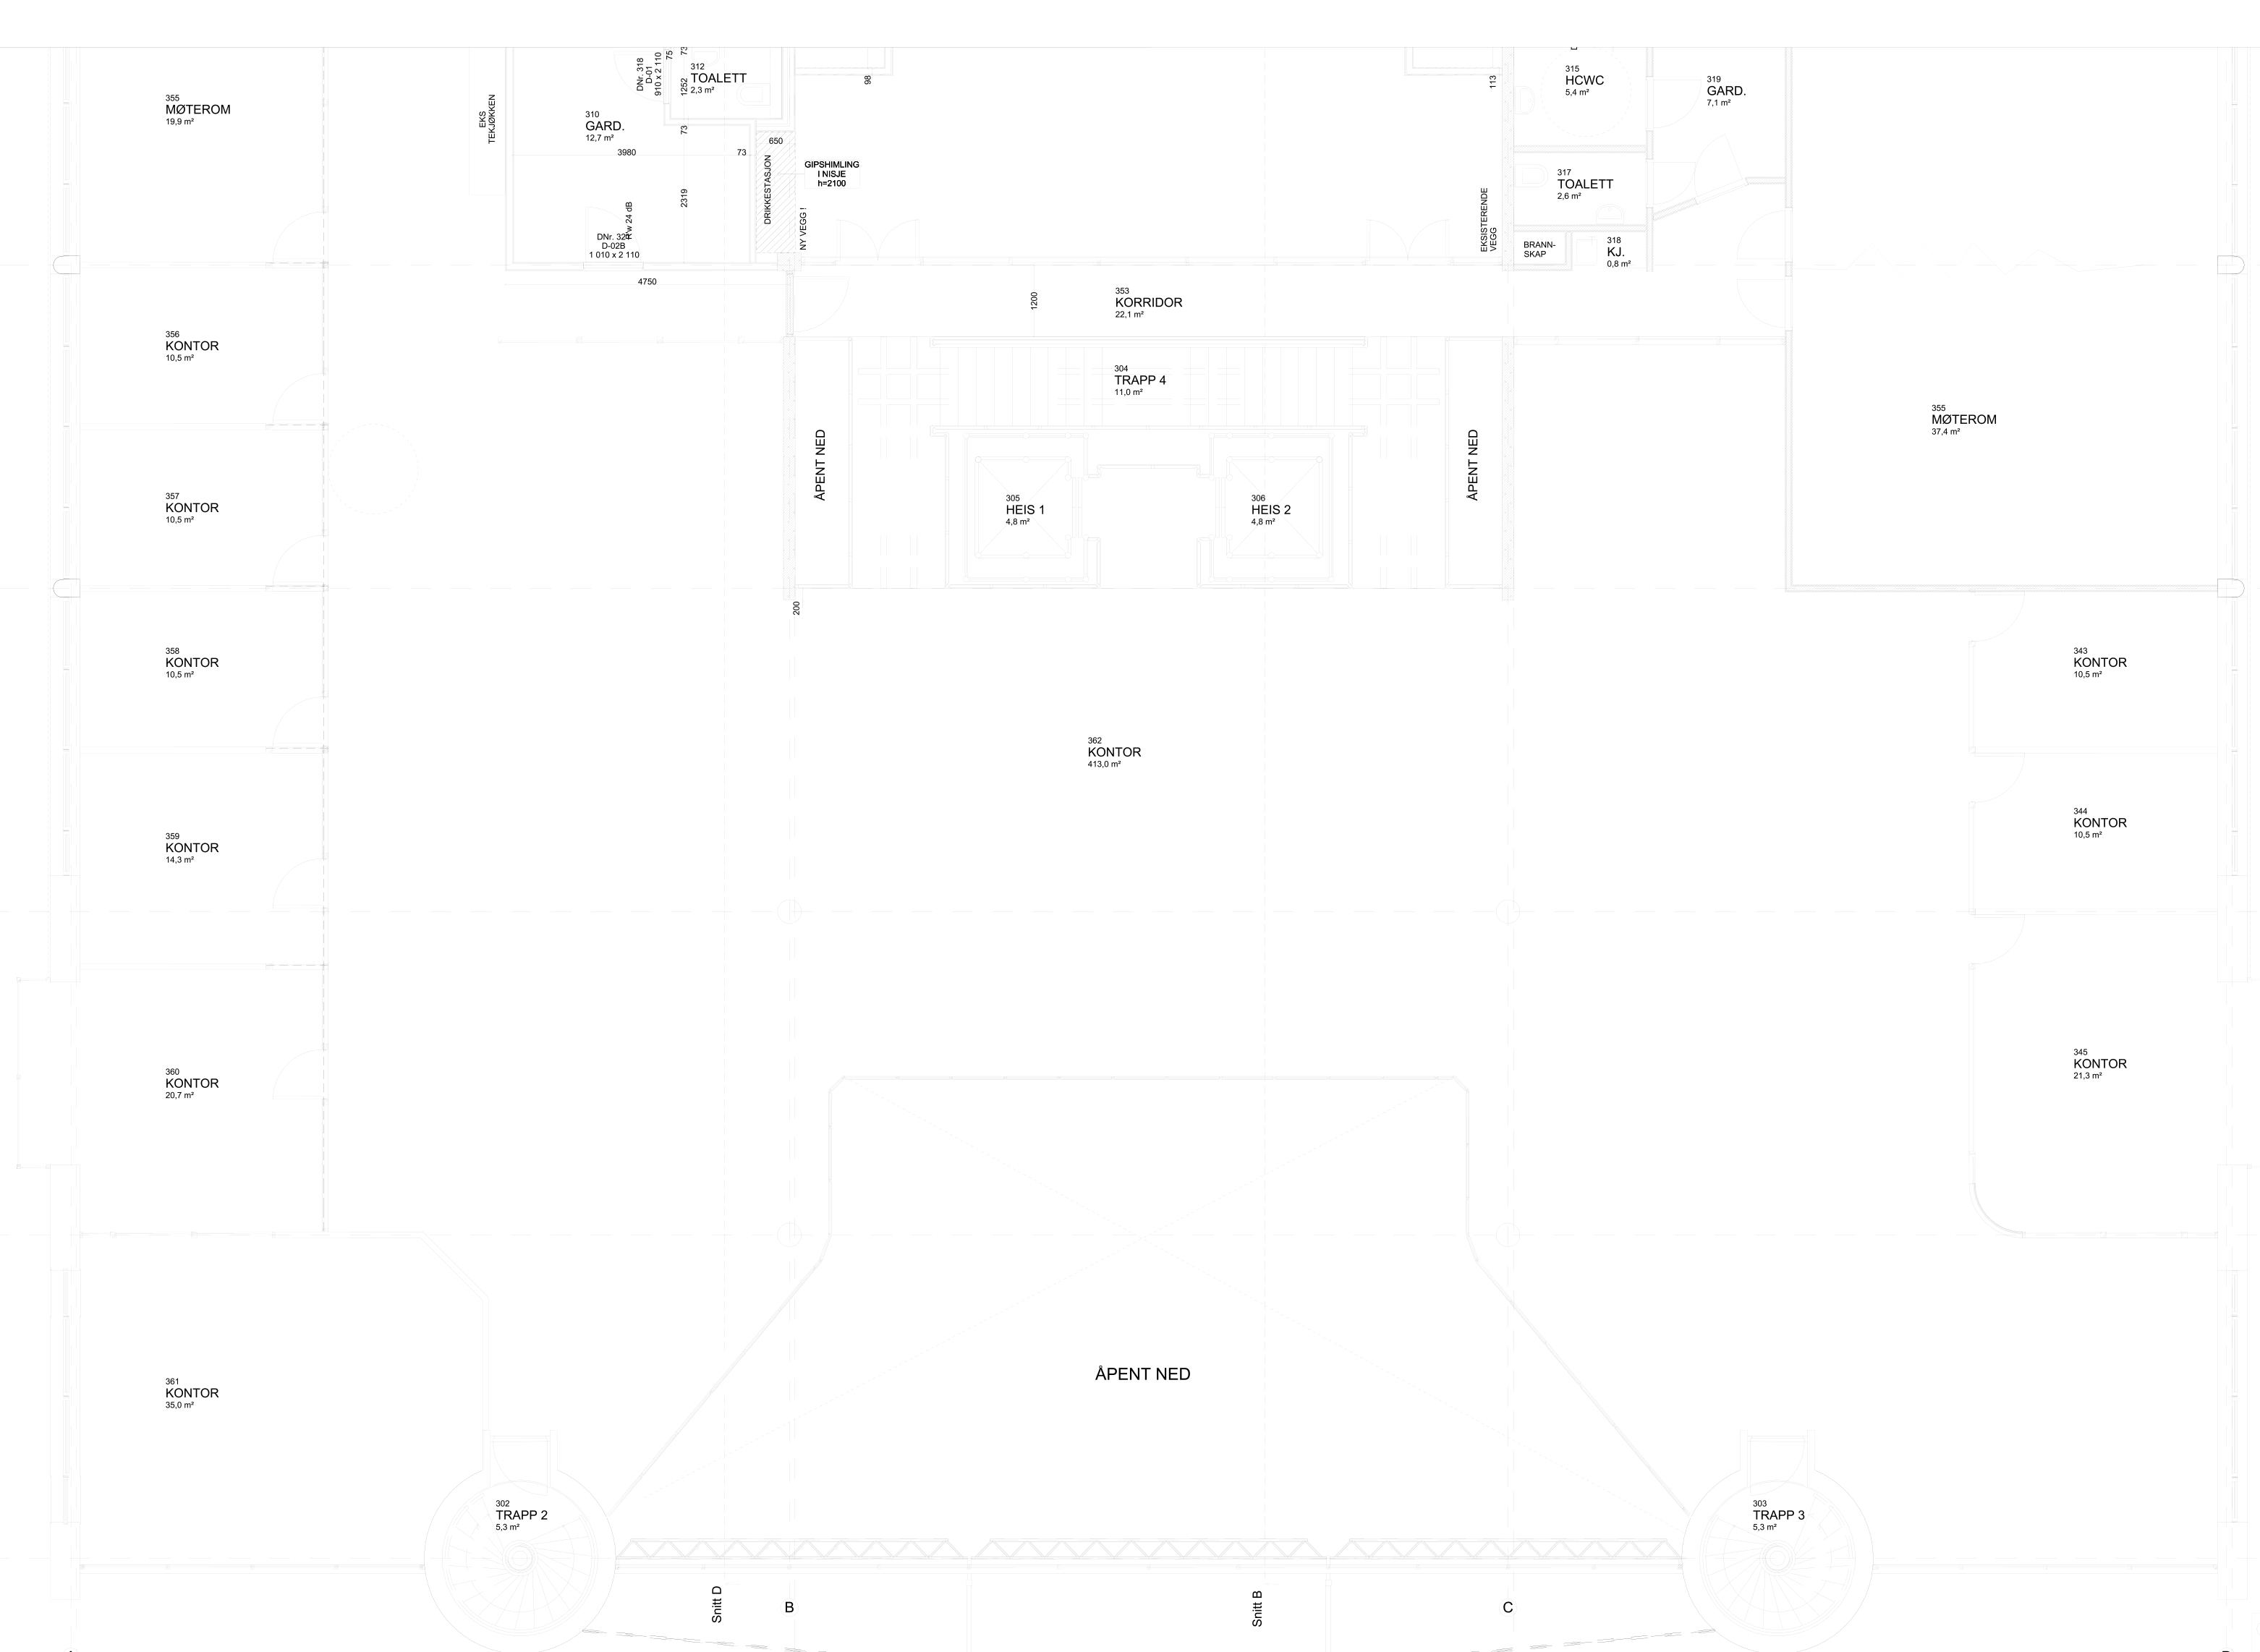room: (1786, 49, 2234, 589), (790, 47, 1456, 265), (1972, 912, 2232, 1236), (79, 966, 326, 1235), (509, 47, 755, 267), (75, 47, 325, 263), (79, 751, 326, 965), (1972, 587, 2235, 754), (1970, 752, 2235, 912), (77, 263, 326, 426), (79, 426, 325, 586), (81, 589, 325, 749), (1651, 46, 1788, 217), (1448, 338, 1511, 587), (791, 340, 851, 587), (1507, 49, 1651, 147), (1509, 149, 1651, 224), (1228, 458, 1321, 556), (977, 459, 1070, 556)
